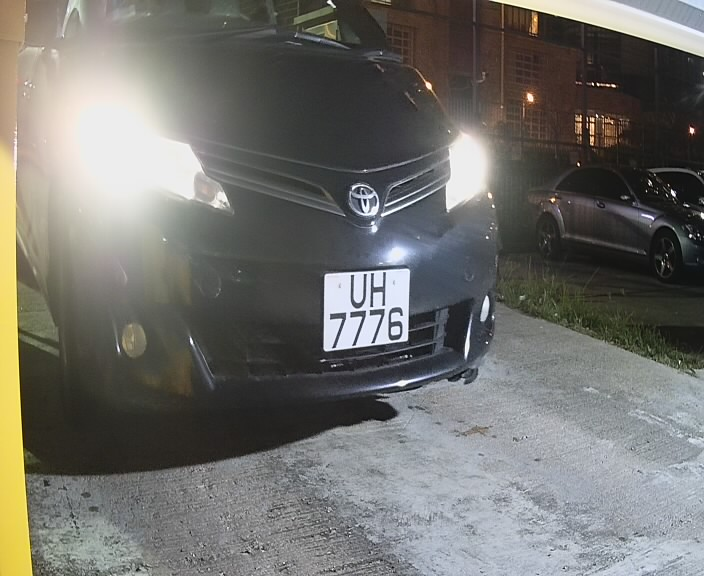Car: (10, 2, 527, 470)
License Plate: (312, 259, 422, 361)
